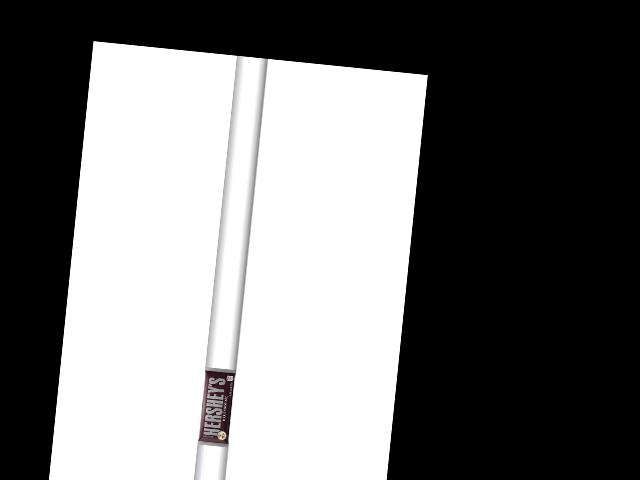chocolate: (198, 367, 239, 446)
